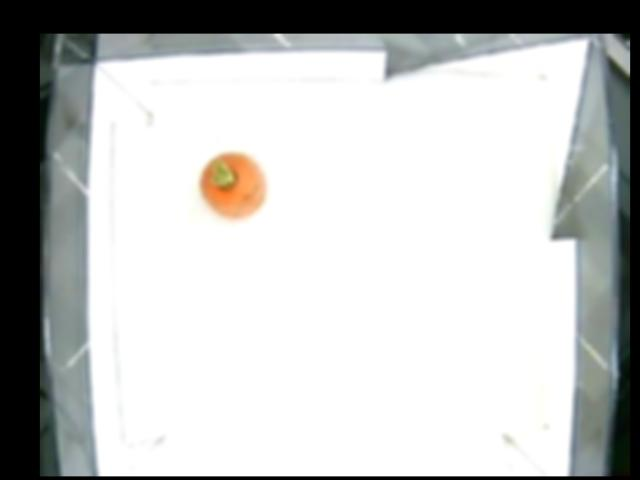Carrot: (200, 151, 266, 218)
